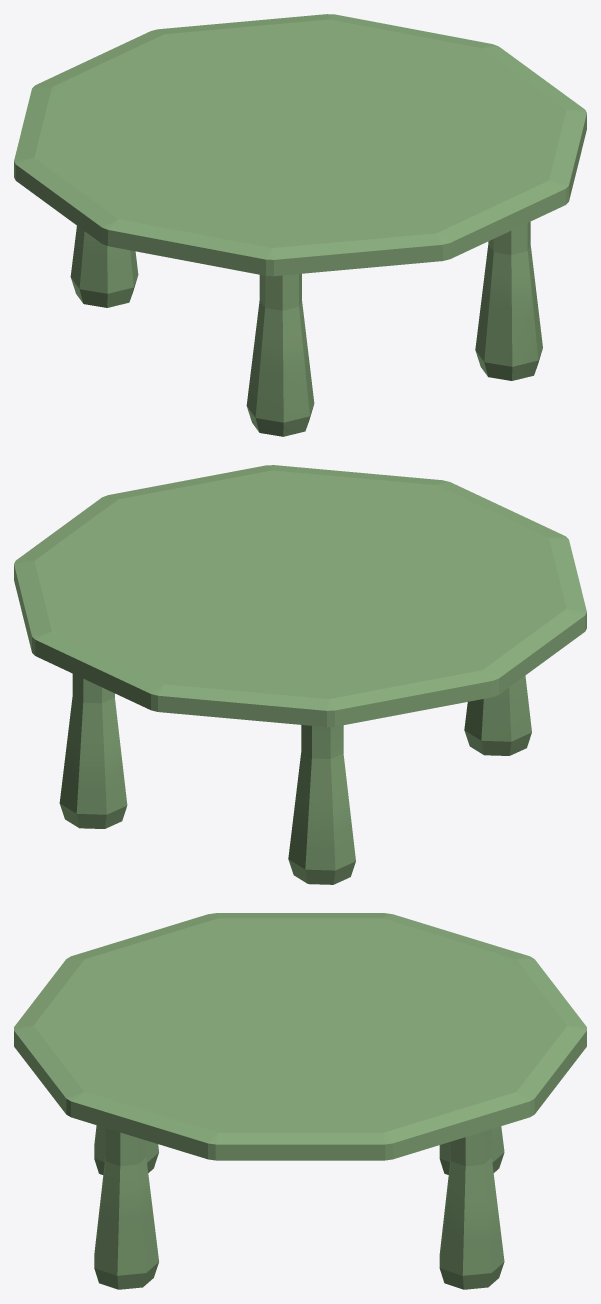
Rendered from KTable1.fbx.
3 views of the same model, one above another, from view 1: azimuth 30°, elevation 25°; view 2: azimuth 150°, elevation 25°; view 3: azimuth 270°, elevation 25° (orthographic).
Parts seen in each view (by area): view 1: Circle; view 2: Circle; view 3: Circle.
Boxes of the visible parts, box(x1,y1,x2,y2) form: Circle: box(14, 14, 586, 436); Circle: box(14, 465, 586, 884); Circle: box(14, 913, 586, 1289).
Size of the model in its own units: 190 by 74.72 by 199.
Materials: 1 (1 with a texture image).
